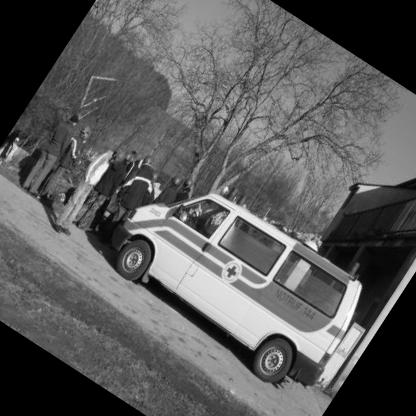ambulance: (70, 131, 394, 416)
